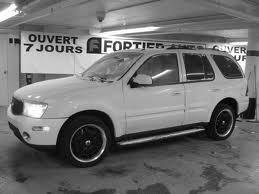car: (8, 48, 252, 170)
